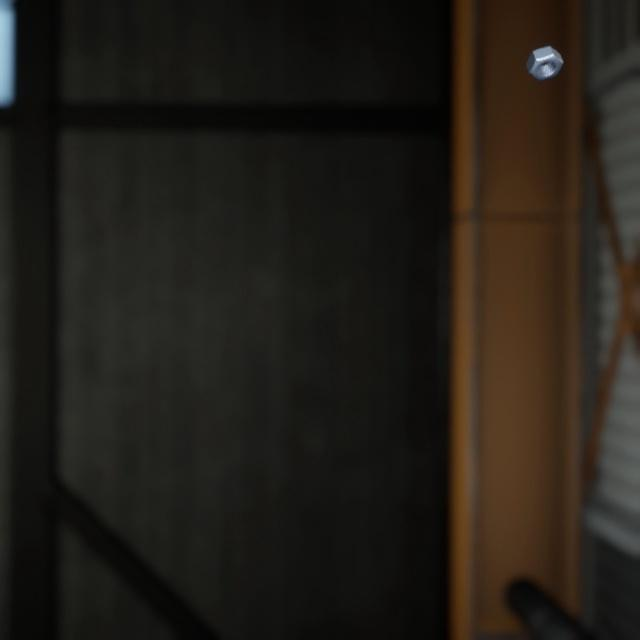bolt: (232, 612, 265, 640)
nut: (521, 31, 568, 75)
